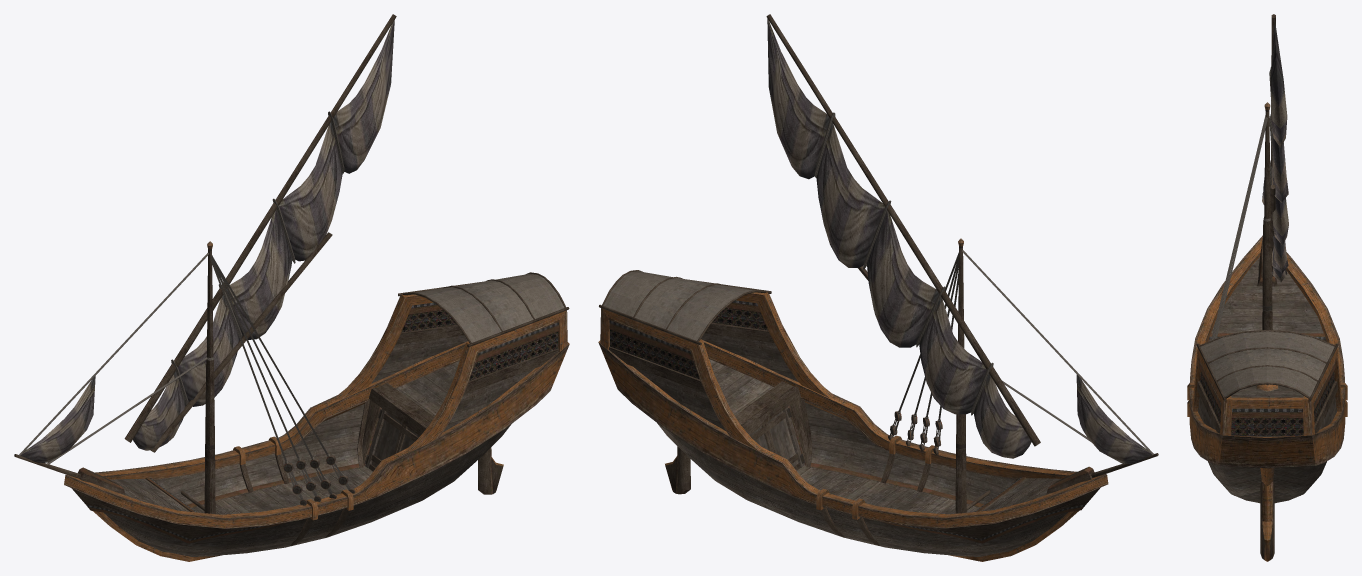
File: eso_gu3_boat3-transformed.glb
The picture shows the model from 3 angles, left to right: view 1: azimuth 30°, elevation 25°; view 2: azimuth 150°, elevation 25°; view 3: azimuth 270°, elevation 25°; orthographic projection.
Parts seen in each view (by area): view 1: default; view 2: default; view 3: default.
Boxes of the visible parts, bbox=[...] form: default: bbox=[14, 14, 569, 561]; default: bbox=[598, 14, 1158, 561]; default: bbox=[1187, 14, 1347, 561].
Bounding box in the file's own units: 17.39 × 15.48 × 4.49.
Materials: 1 (1 with a texture image).
